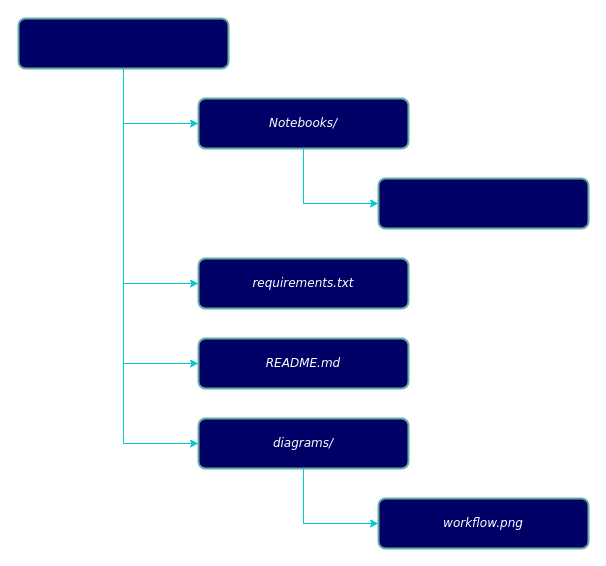
Some shapes in this 606 by 566 pixel diagram are drawn without their labels. The shapes that lost their labels are listed below. From the top down, each one's box as (x1, y1, x2, y2) in pixels, then its label:
(17, 17, 229, 69): Estimación-precios/
(377, 177, 589, 229): modelo.py
